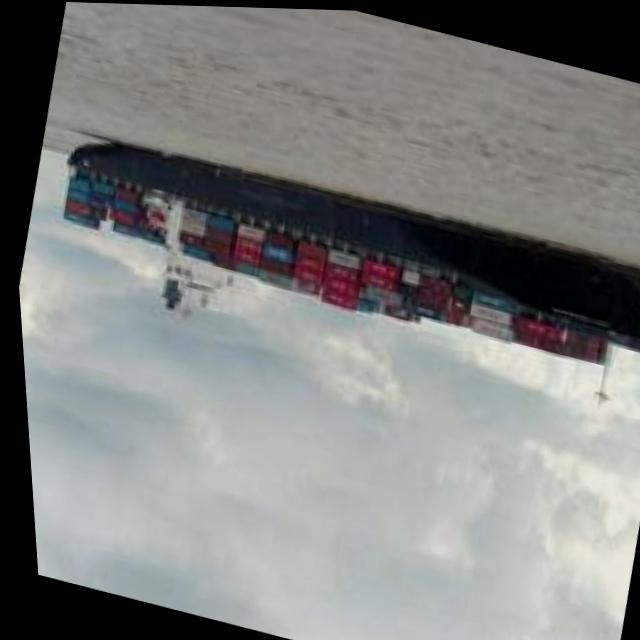ship2: (57, 139, 640, 407)
